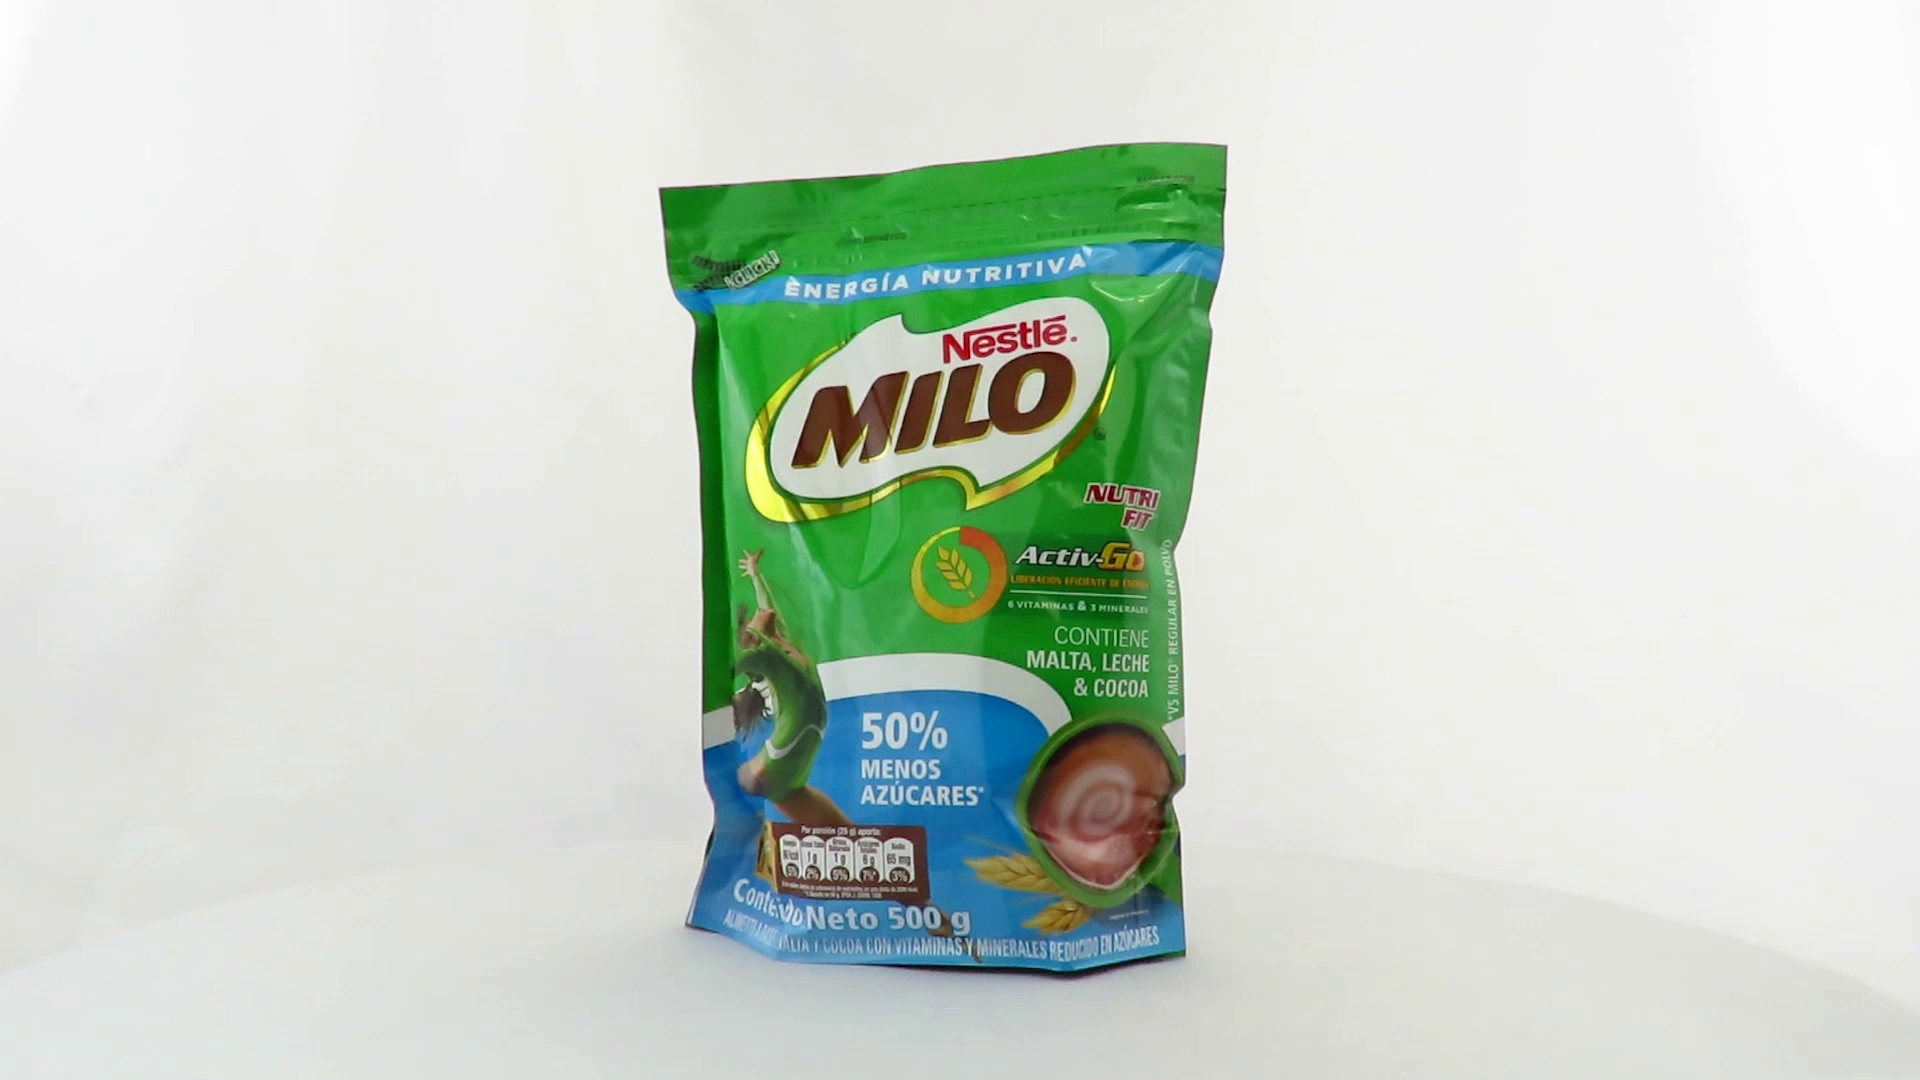COL0170205DYP50000: (653, 136, 1234, 986)
